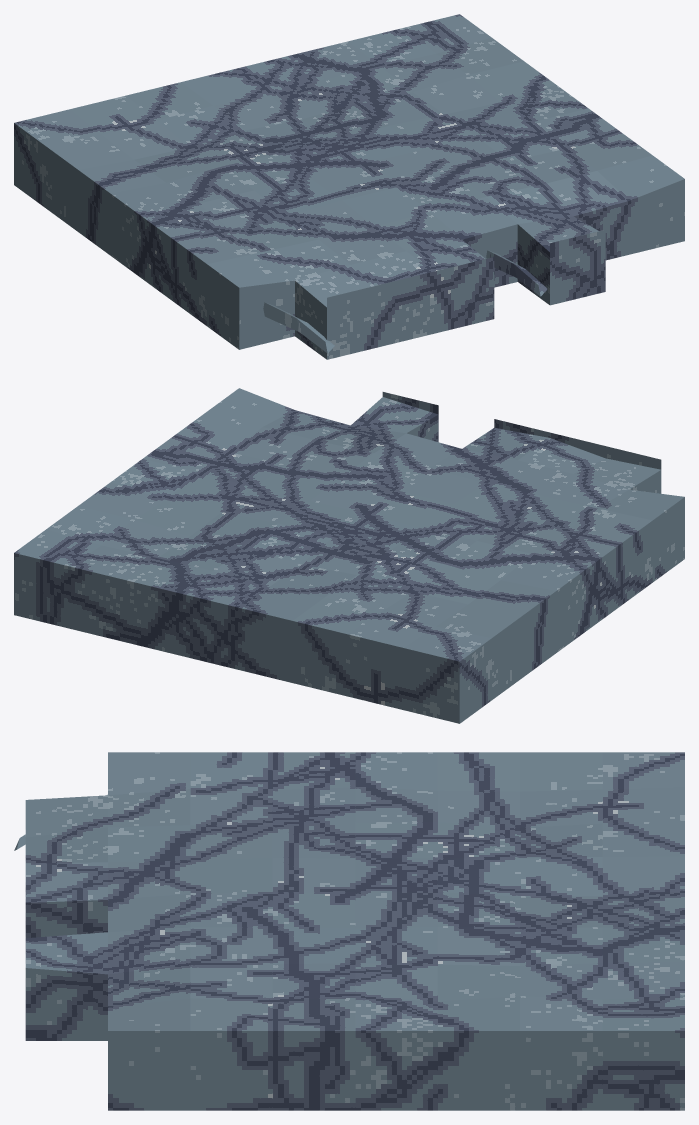
The model's file is TER-02_Losa_roto.gltf.
3 views of the same model, one above another, from view 1: azimuth 30°, elevation 25°; view 2: azimuth 150°, elevation 25°; view 3: azimuth 270°, elevation 25° (orthographic). The views are drawn at different scales.
Parts seen in each view (by area): view 1: TER-02_Losa_roto; view 2: TER-02_Losa_roto; view 3: TER-02_Losa_roto.
Boxes of the visible parts, x1,y1,x2,y2 form: TER-02_Losa_roto: (14,14,684,359); TER-02_Losa_roto: (14,388,684,723); TER-02_Losa_roto: (14,752,684,1110).
Bounding box in the file's own units: 3 × 0.4 × 3.05.
Materials: 1 (1 with a texture image).
